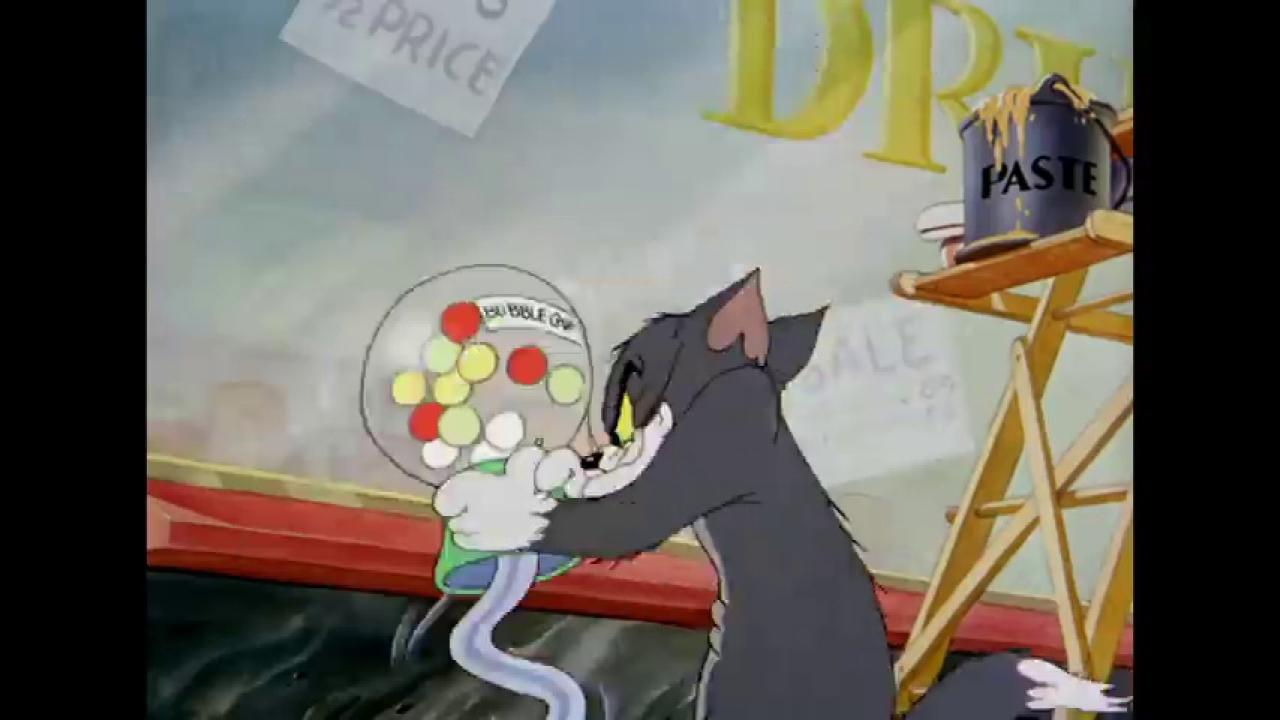Tom: (431, 264, 1133, 720)
